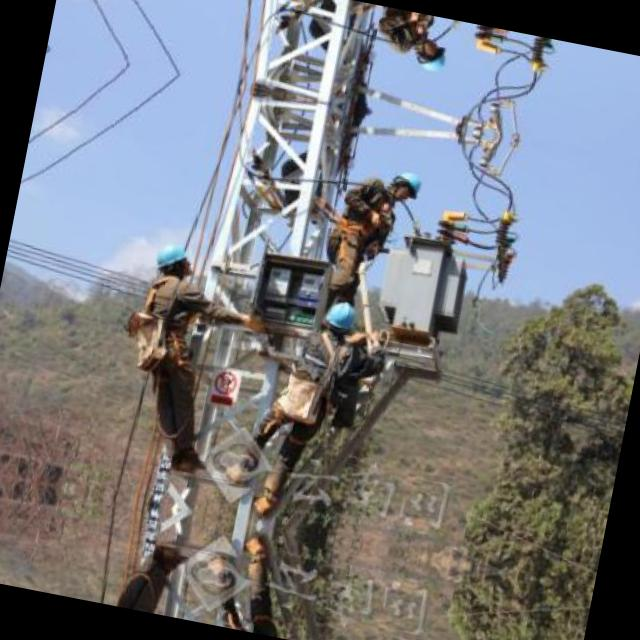helmet: (408, 30, 454, 80), (150, 238, 195, 288), (383, 163, 428, 212), (320, 295, 362, 338)
